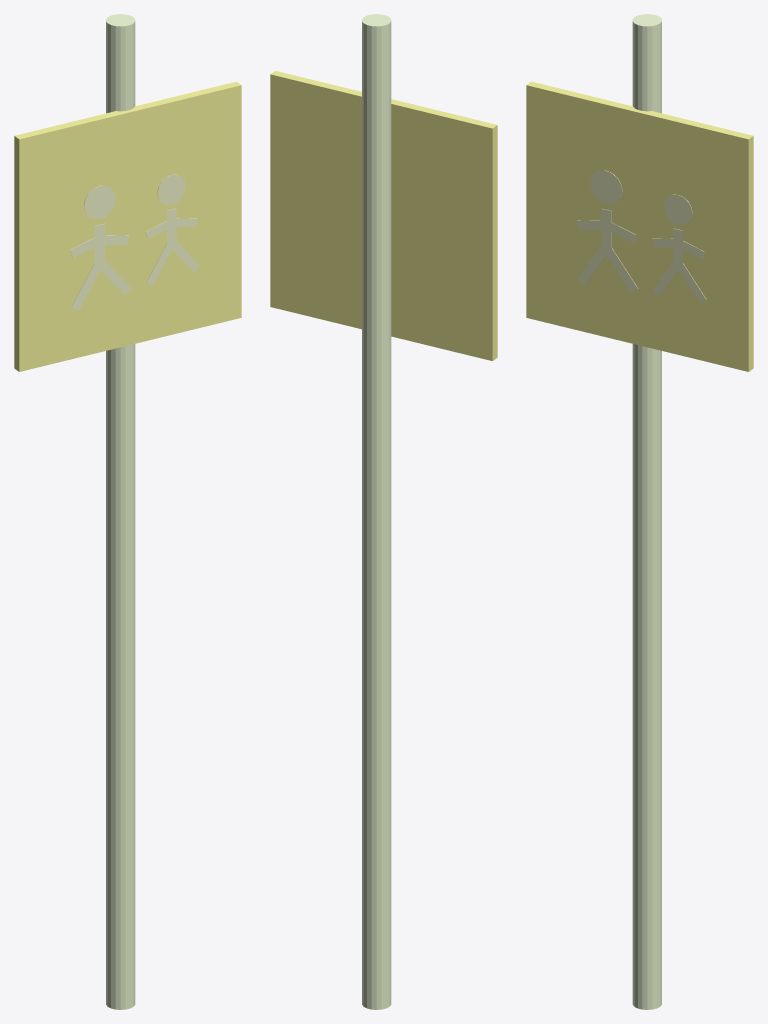
File: sign_school_warning.glb
3 renders of one model, left to right at view 1: azimuth 30°, elevation 25°; view 2: azimuth 150°, elevation 25°; view 3: azimuth 330°, elevation 25°, orthographic.
Visible parts, largest first — view 1: plate_base_00, pole, layer_1_00, layer_1_06; view 2: plate_base_00, pole; view 3: plate_base_00, pole, layer_1_00, layer_1_06.
Part boxes in pixels (bbox=[...]): plate_base_00: bbox=[14, 81, 241, 371]; pole: bbox=[106, 14, 135, 1009]; layer_1_00: bbox=[84, 185, 115, 219]; layer_1_06: bbox=[157, 174, 185, 204]; plate_base_00: bbox=[270, 71, 497, 360]; pole: bbox=[362, 14, 391, 1009]; plate_base_00: bbox=[526, 81, 753, 371]; pole: bbox=[632, 14, 661, 1009]; layer_1_00: bbox=[590, 170, 622, 204]; layer_1_06: bbox=[664, 194, 692, 224].
Bounding box in the file's own units: 0.5204 × 2.2 × 0.071.
